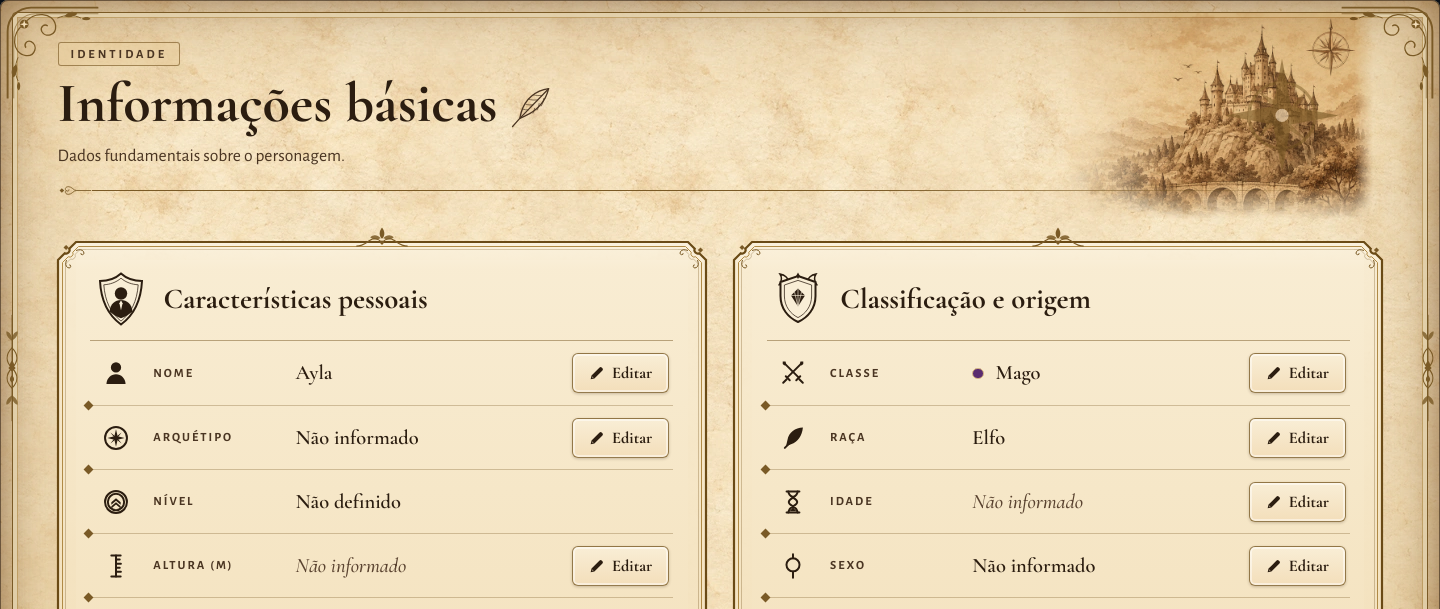
Scenario: Aba Informações › jogador não troca a raça quando há Tamanho atual do Narrador
Click the button with aria-label "Editar Raça" at (1297, 438), box x1=1249 y1=418 x2=1346 y2=458
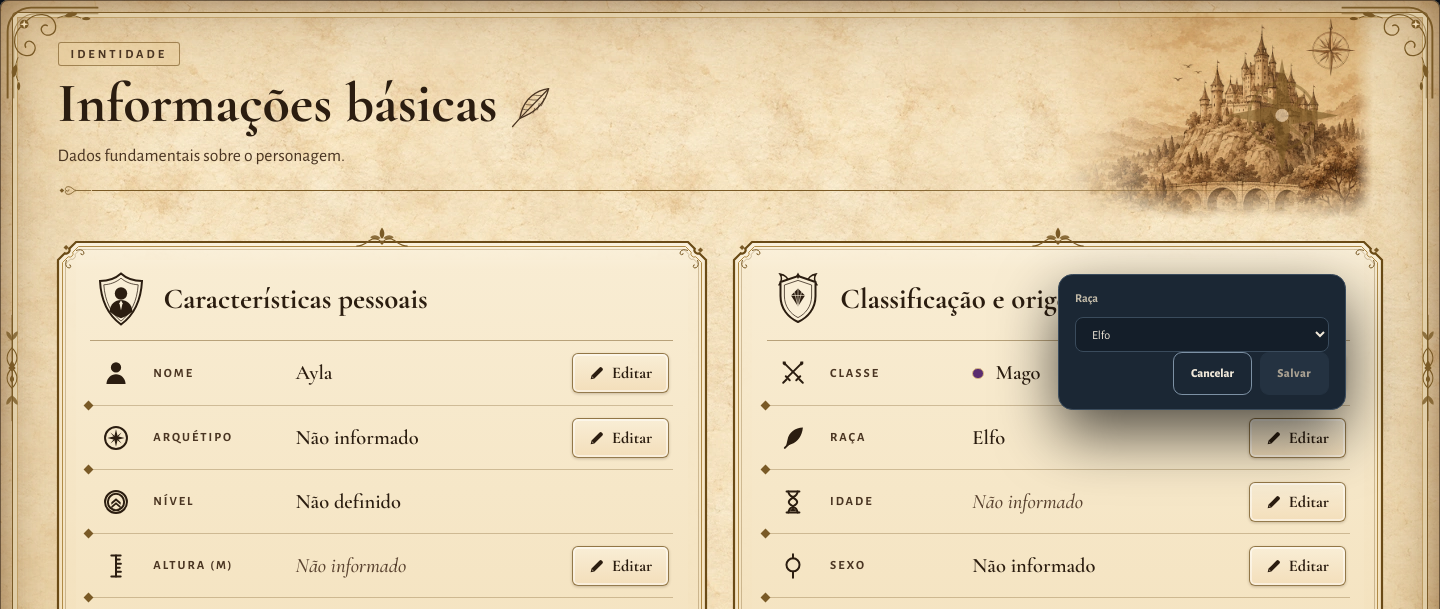
Select "Anão" in the dropdown labelled "Raça" at (1202, 335), box x1=1075 y1=317 x2=1329 y2=352
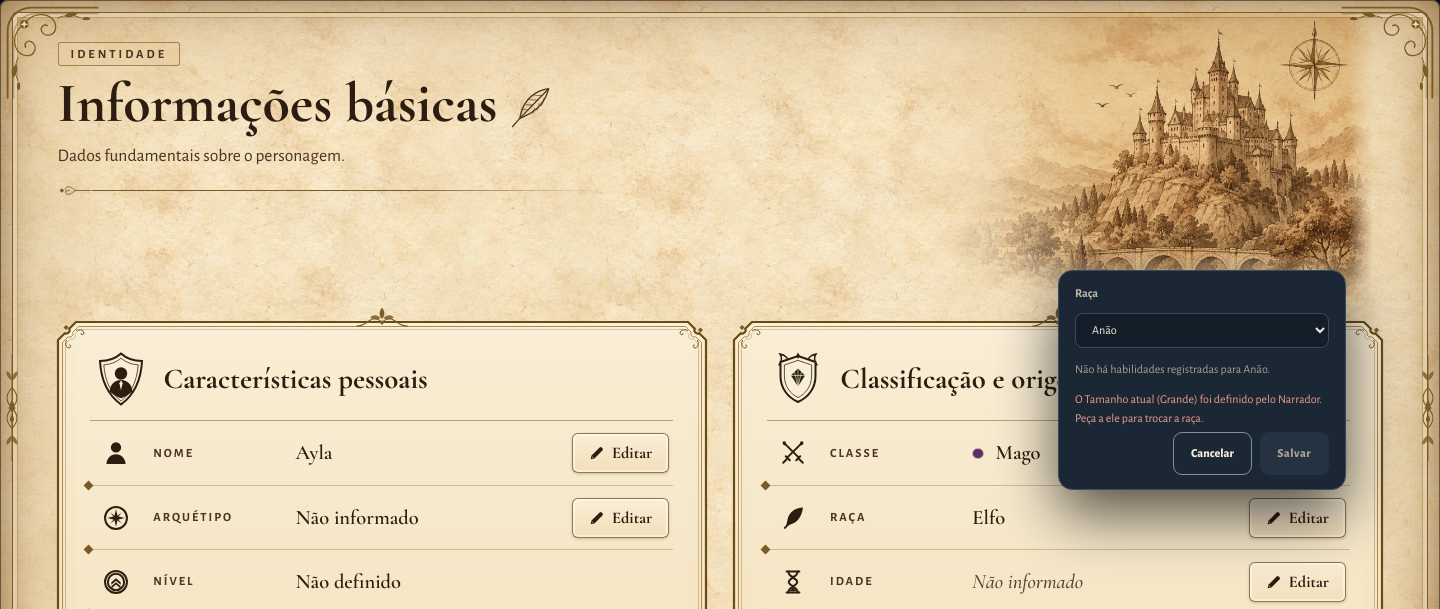
Now the message shows "Peça a ele", box x1=1075 y1=393 x2=1322 y2=424
